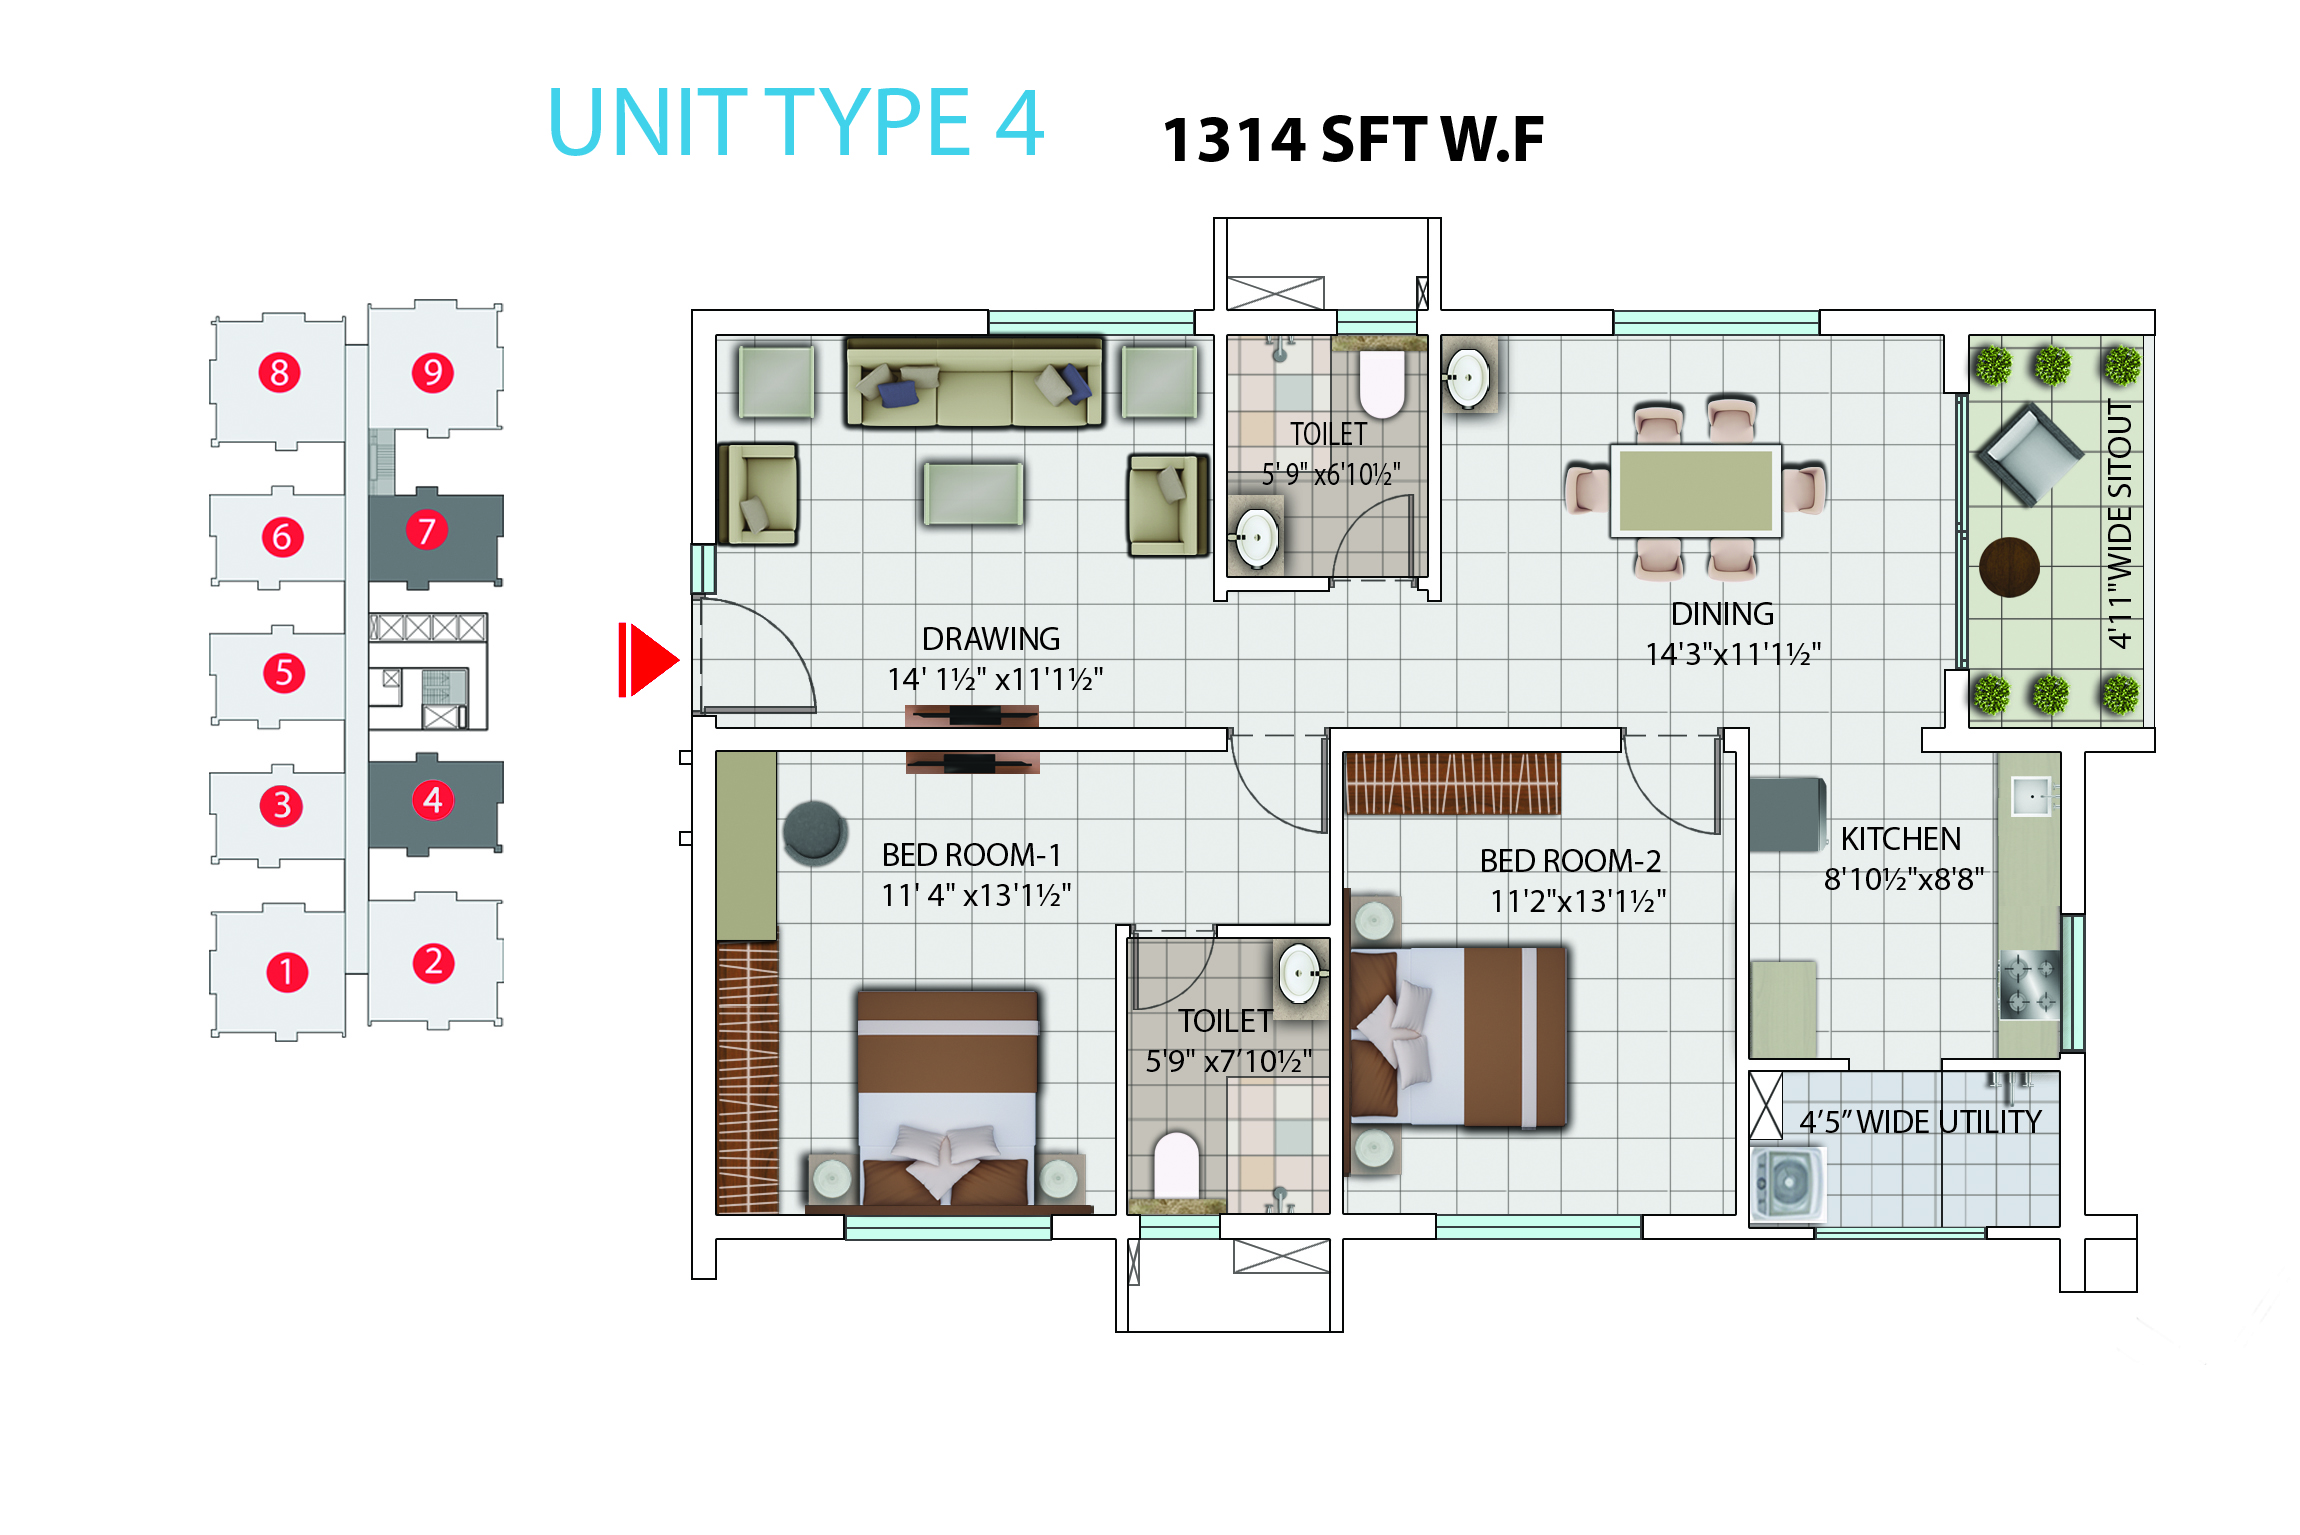window: (981, 305, 1201, 343), (1606, 308, 1827, 343), (1430, 1209, 1648, 1244), (841, 1213, 1058, 1245), (2057, 910, 2091, 1060), (1814, 1221, 1992, 1244), (1332, 307, 1423, 339), (1134, 1213, 1223, 1245)
